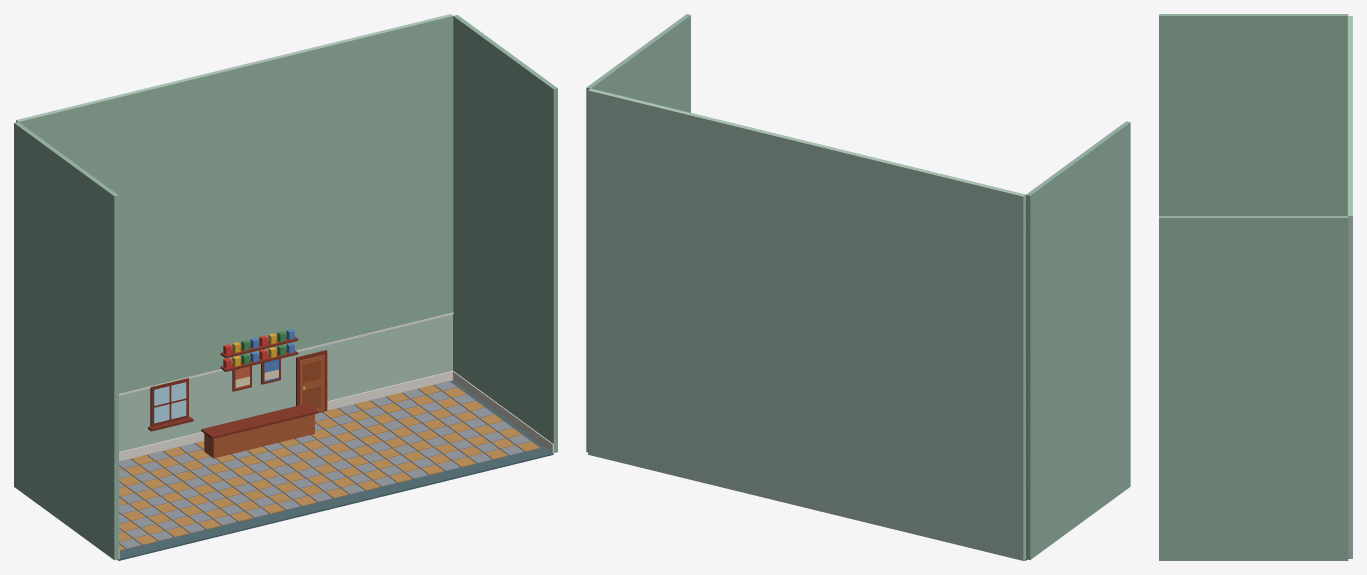
Rendered from room_eua_shop.glb.
3 renders of one model, left to right at view 1: azimuth 30°, elevation 25°; view 2: azimuth 150°, elevation 25°; view 3: azimuth 270°, elevation 25°, orthographic. The views are drawn at different scales.
Visible parts, largest first — view 1: room; view 2: room; view 3: room.
Boxes of the visible parts, left/top/right/bottom form: room: left=14, top=14, right=557, bottom=560; room: left=586, top=14, right=1130, bottom=560; room: left=1159, top=14, right=1352, bottom=560.
Bounding box in the file's own units: 30.6 × 24.11 × 12.3.
